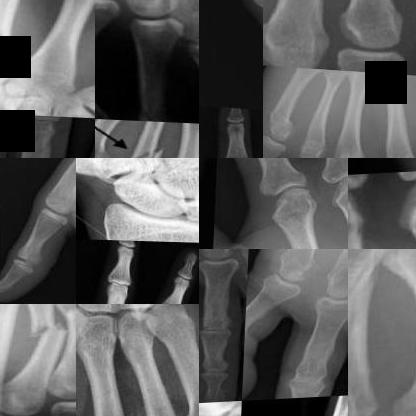fracture: (348, 273, 396, 372), (26, 310, 66, 348), (266, 97, 302, 130), (128, 137, 170, 157), (61, 304, 75, 330)
